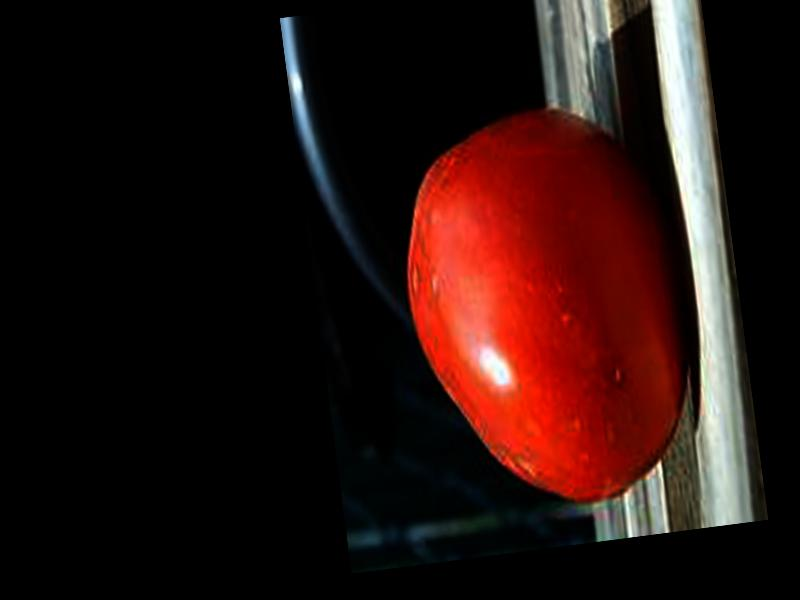Tomato: (386, 96, 704, 523)
